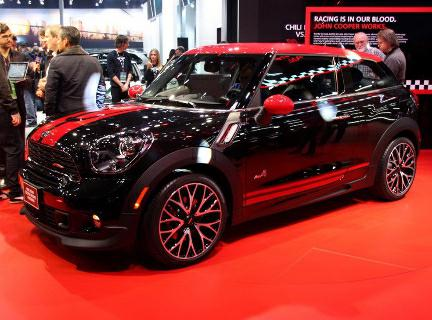MINI-JCWPACEMAN: (18, 42, 424, 276)
